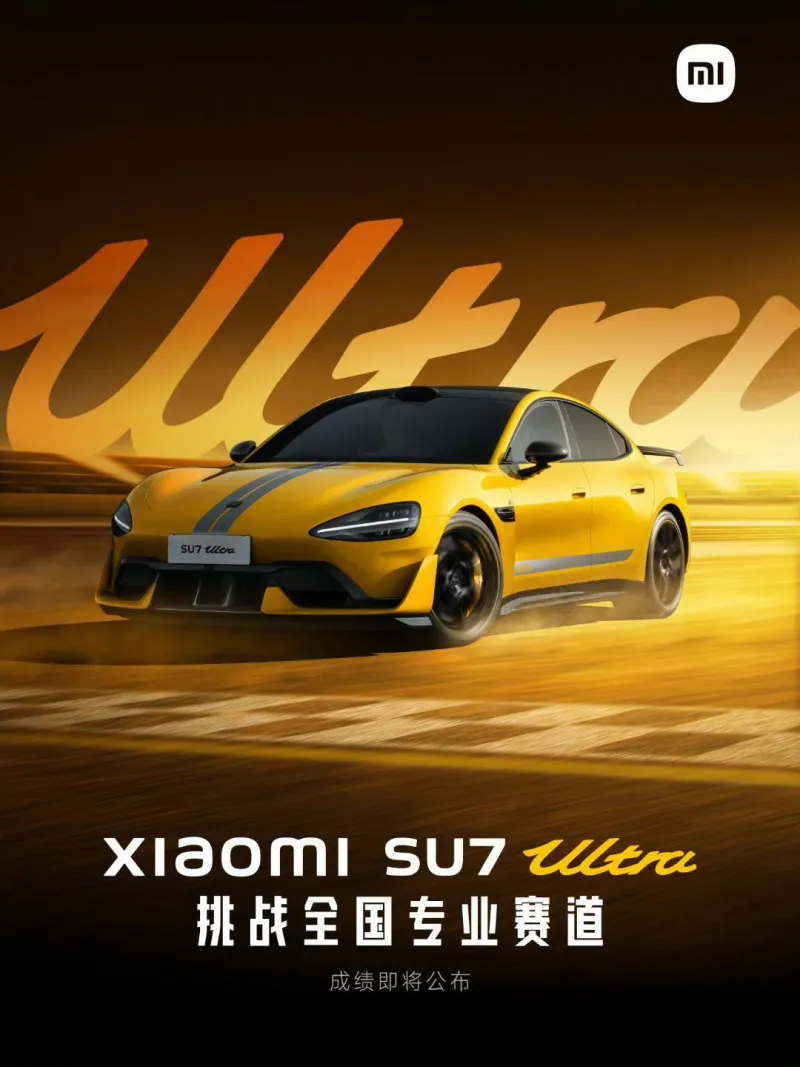su7: (95, 390, 684, 642)
